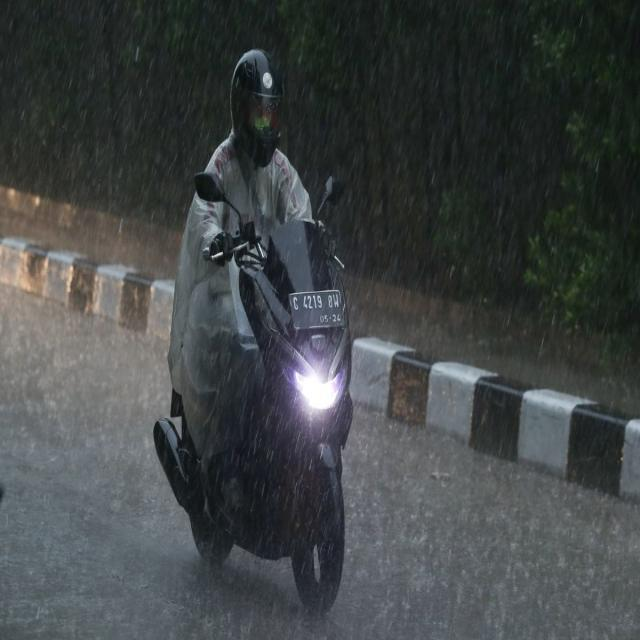Helmet: (230, 49, 283, 166)
Number Plate: (289, 290, 344, 328)
Rearview Mirror: (316, 176, 343, 214), (194, 172, 224, 201), (325, 176, 343, 204)
